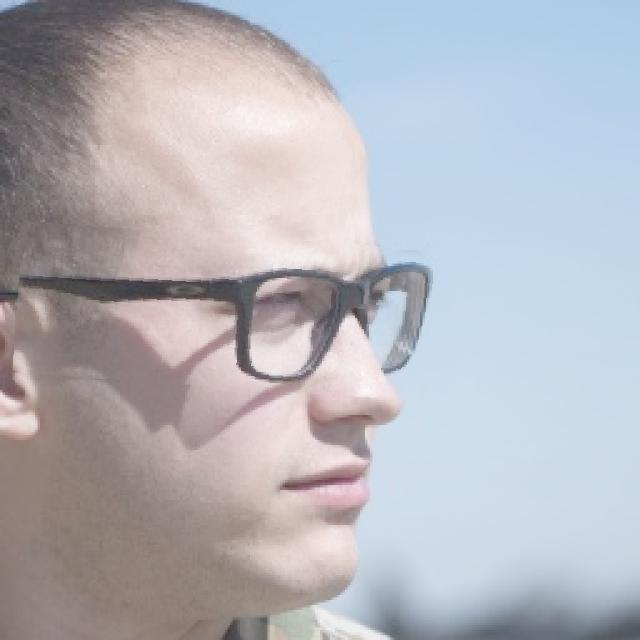glasses: (15, 228, 456, 396)
